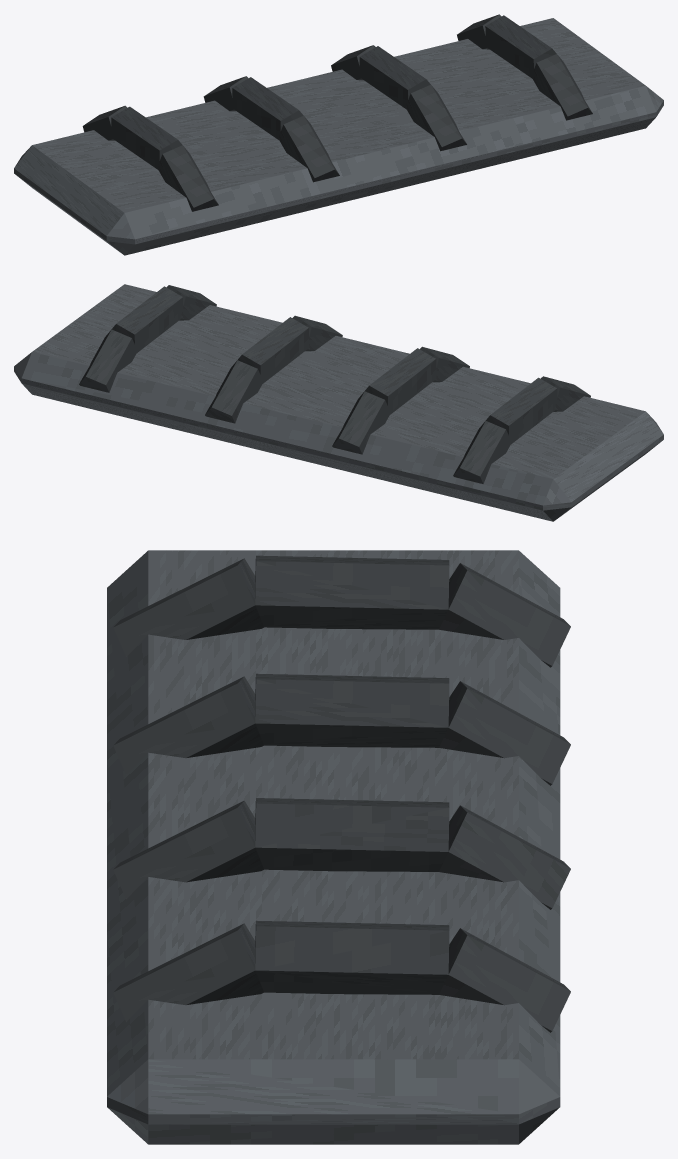
The model's file is modular_papr_strap.glb.
3 views of the same model, one above another, from view 1: azimuth 30°, elevation 25°; view 2: azimuth 150°, elevation 25°; view 3: azimuth 270°, elevation 25° (orthographic). The views are drawn at different scales.
Visible parts, largest first — view 1: block_flexible MOLLE backing panel, block_stitched loop 1 (×4), block_stitched loop 2 (×4), block_stitched loop 0 (×4); view 2: block_flexible MOLLE backing panel, block_stitched loop 1 (×4), block_stitched loop 0 (×4), block_stitched loop 2 (×4); view 3: block_flexible MOLLE backing panel, block_stitched loop 1 (×4), block_stitched loop 2 (×4), block_stitched loop 0 (×4).
Boxes of the visible parts, left/top/right/bottom form: block_flexible MOLLE backing panel: left=14, top=18, right=663, bottom=255; block_stitched loop 1 (×4): left=111, top=15, right=556, bottom=170; block_stitched loop 2 (×4): left=157, top=54, right=592, bottom=211; block_stitched loop 0 (×4): left=82, top=14, right=501, bottom=140; block_flexible MOLLE backing panel: left=14, top=284, right=663, bottom=521; block_stitched loop 1 (×4): left=109, top=286, right=557, bottom=445; block_stitched loop 0 (×4): left=79, top=329, right=510, bottom=483; block_stitched loop 2 (×4): left=166, top=285, right=590, bottom=411; block_flexible MOLLE backing panel: left=107, top=550, right=560, bottom=1144; block_stitched loop 1 (×4): left=255, top=555, right=449, bottom=994; block_stitched loop 2 (×4): left=113, top=558, right=264, bottom=1021; block_stitched loop 0 (×4): left=439, top=563, right=570, bottom=1032.
Bounding box in the file's own units: 0.1413 × 0.0185 × 0.051.
1 material, 1 textured.
